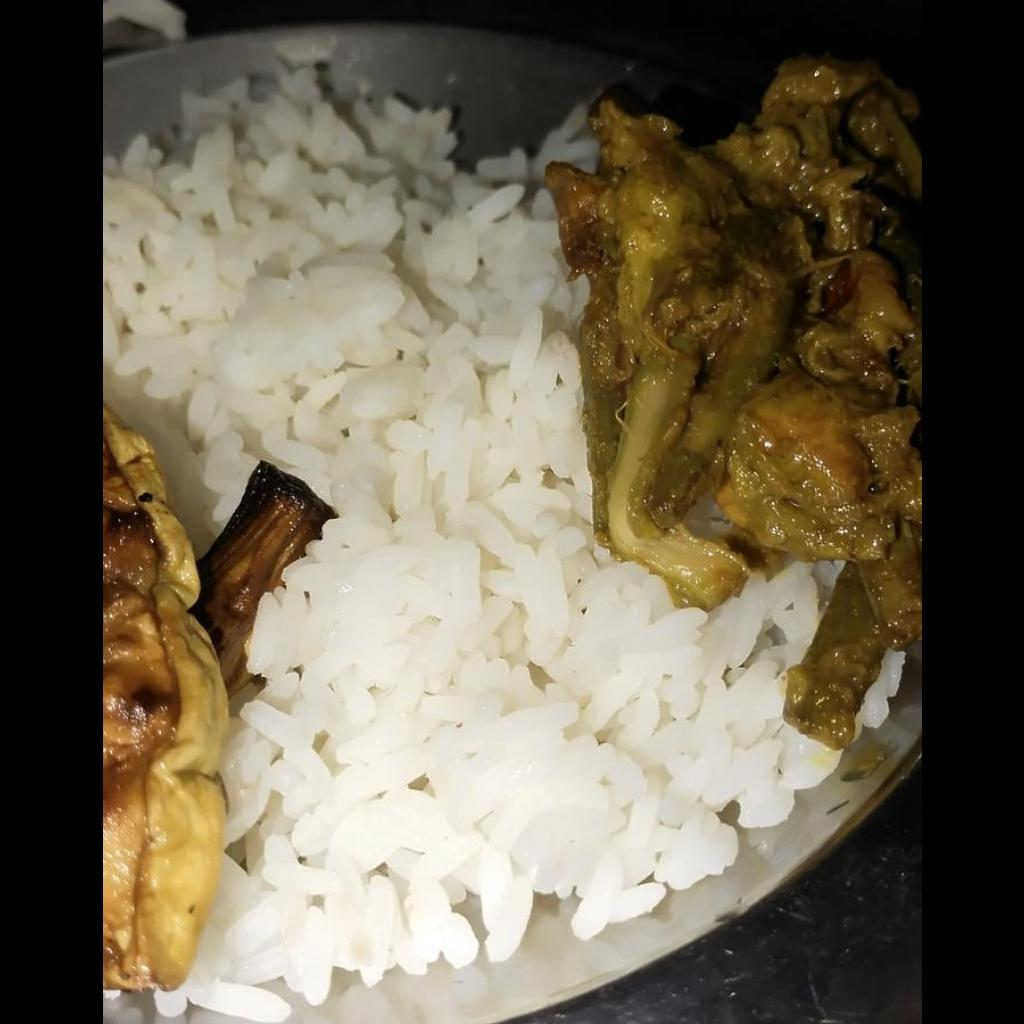chicken: (552, 71, 920, 745)
potol: (102, 407, 332, 989)
rice: (104, 60, 850, 1004), (102, 58, 848, 1002)
